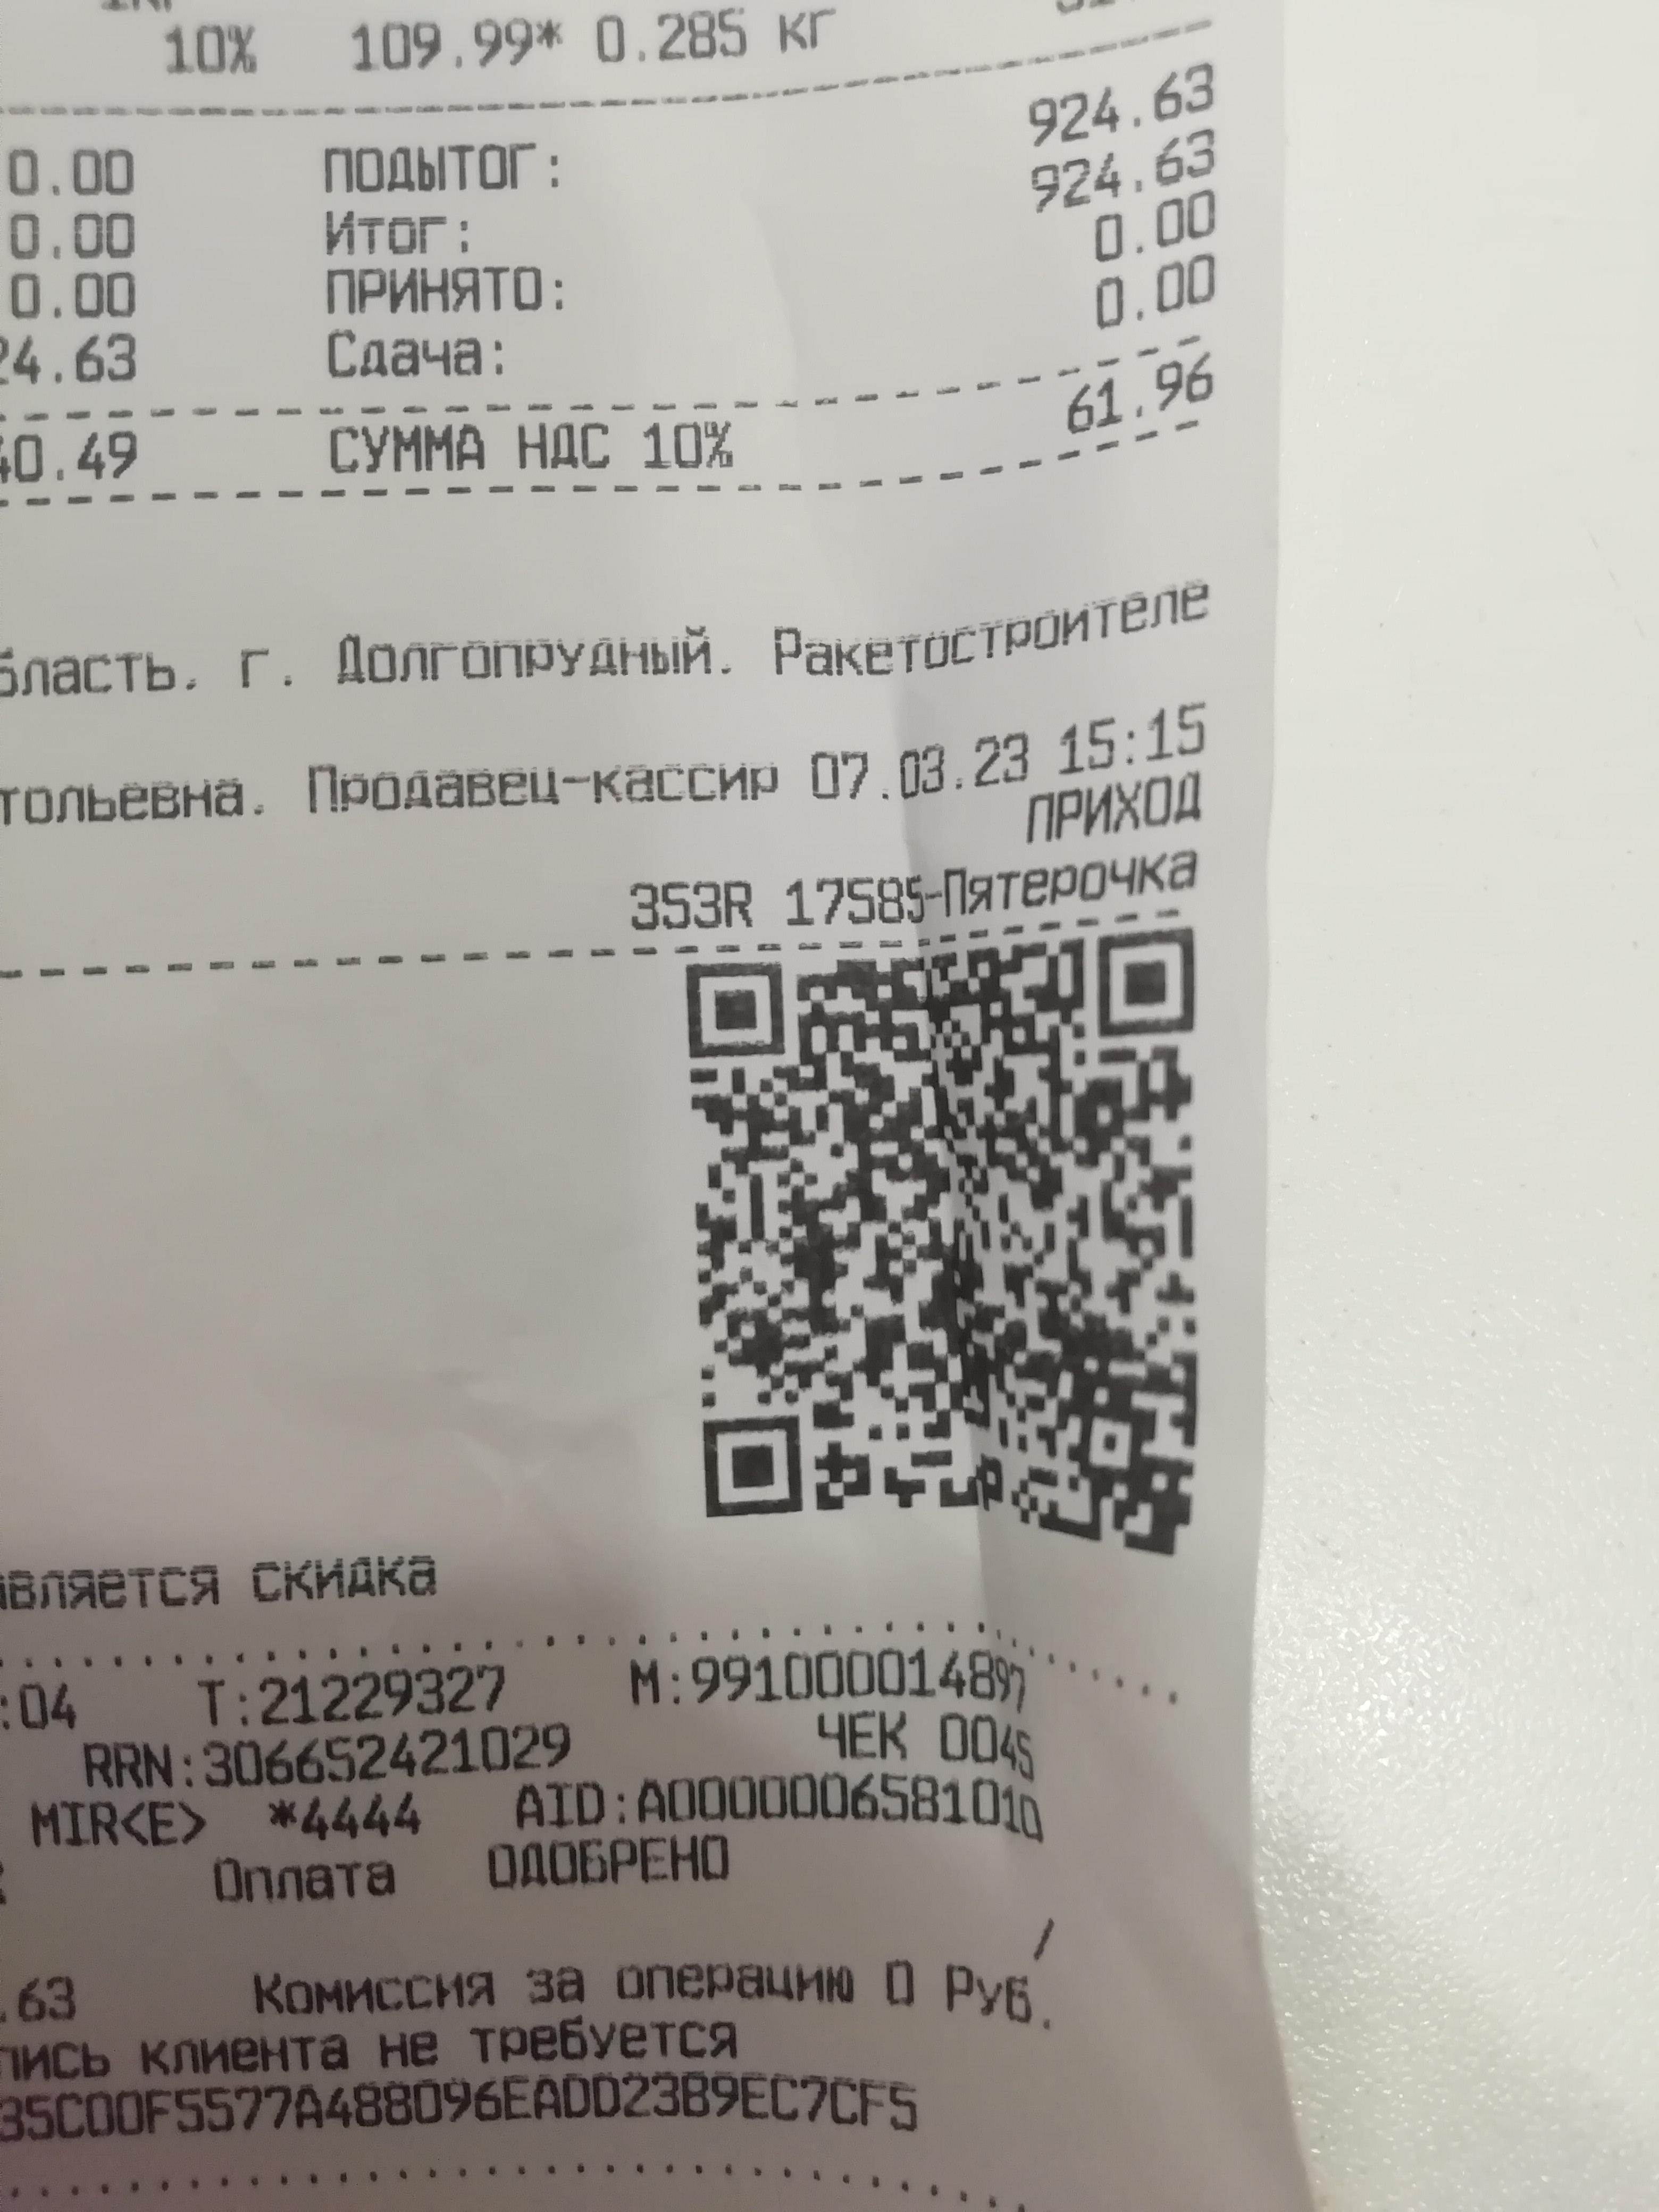qrcode: (683, 923, 1202, 1564)
